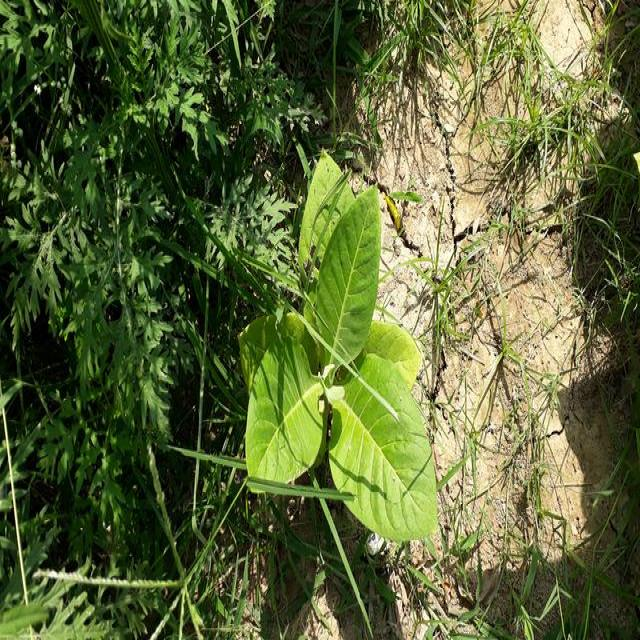crop: (247, 162, 440, 539)
